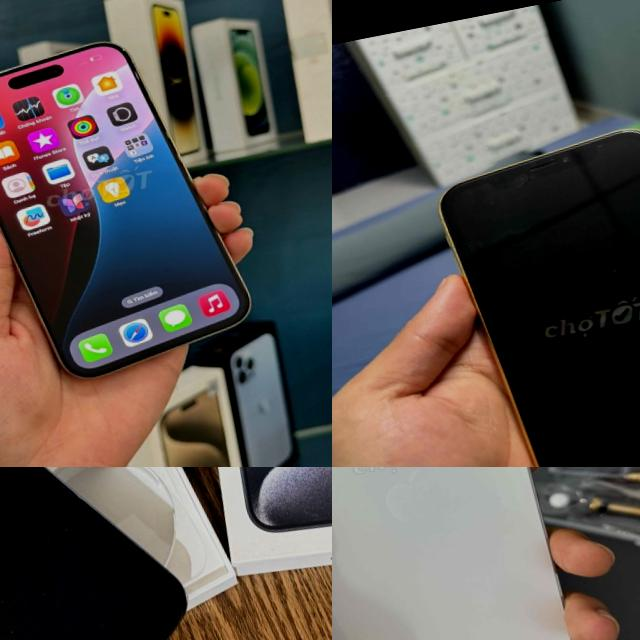gen_14: (332, 467, 591, 640)
gen_15: (0, 21, 267, 390), (0, 467, 219, 640)
gen_x_xs: (429, 106, 640, 467)
